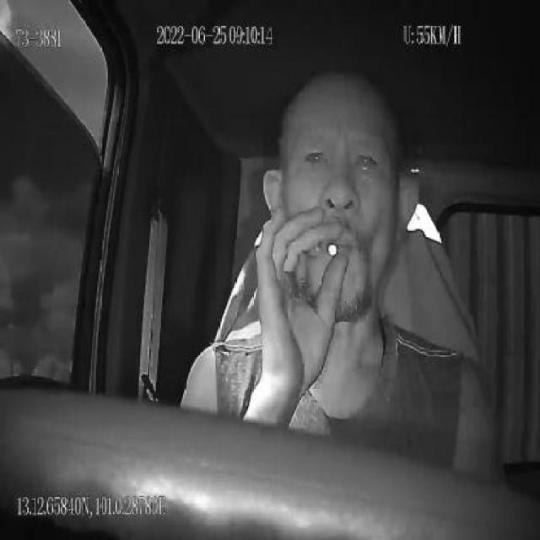smoking: (327, 238, 339, 259)
